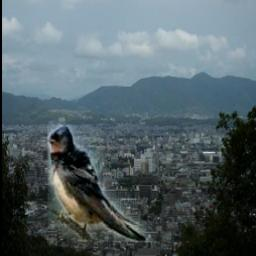Swallow: (46, 126, 170, 243)
